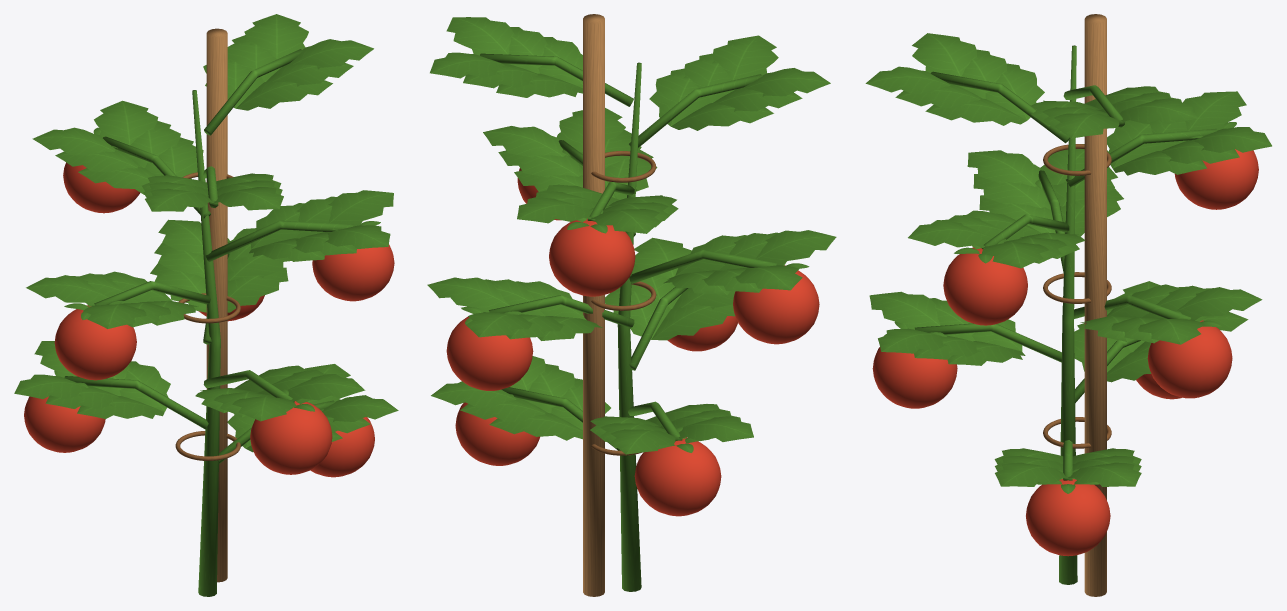
File: crop-tomato-ripe.glb
3 views of the same model, side by side, from view 1: azimuth 30°, elevation 25°; view 2: azimuth 150°, elevation 25°; view 3: azimuth 270°, elevation 25° (orthographic). The views are drawn at different scales.
Visible parts, largest first — view 1: crop_tomato_ripe; view 2: crop_tomato_ripe; view 3: crop_tomato_ripe.
Boxes of the visible parts, bbox=[...] form: crop_tomato_ripe: bbox=[14, 14, 398, 596]; crop_tomato_ripe: bbox=[427, 14, 836, 596]; crop_tomato_ripe: bbox=[865, 14, 1271, 596].
Bounding box in the file's own units: 0.6628 × 1.03 × 0.6627.
Materials: 4 (3 with a texture image).
